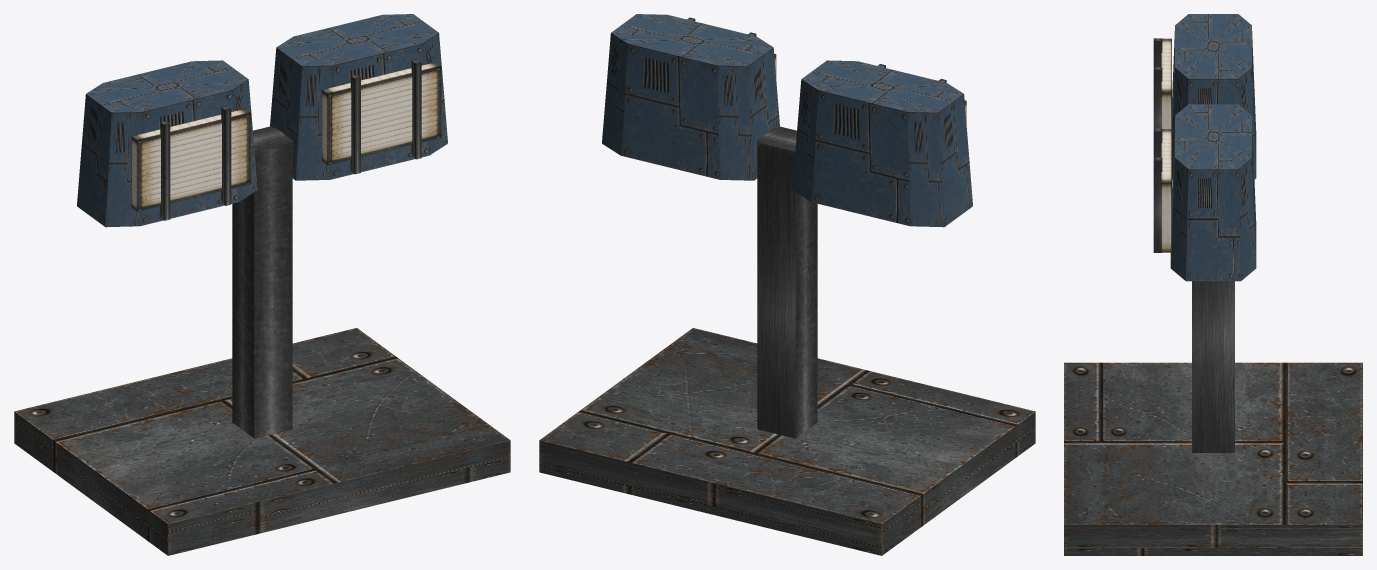
Rendered from floodlight.obj.
3 renders of one model, left to right at view 1: azimuth 30°, elevation 25°; view 2: azimuth 150°, elevation 25°; view 3: azimuth 270°, elevation 25°, orthographic. The views are drawn at different scales.
Parts seen in each view (by area): view 1: floodlight; view 2: floodlight; view 3: floodlight.
Boxes of the visible parts, box(x1,y1,x2,y2) form: floodlight: box(14, 14, 510, 555); floodlight: box(539, 14, 1035, 555); floodlight: box(1064, 14, 1362, 555).
Bounding box in the file's own units: 0.9 × 0.99 × 0.7.
2 materials, 2 textured.
